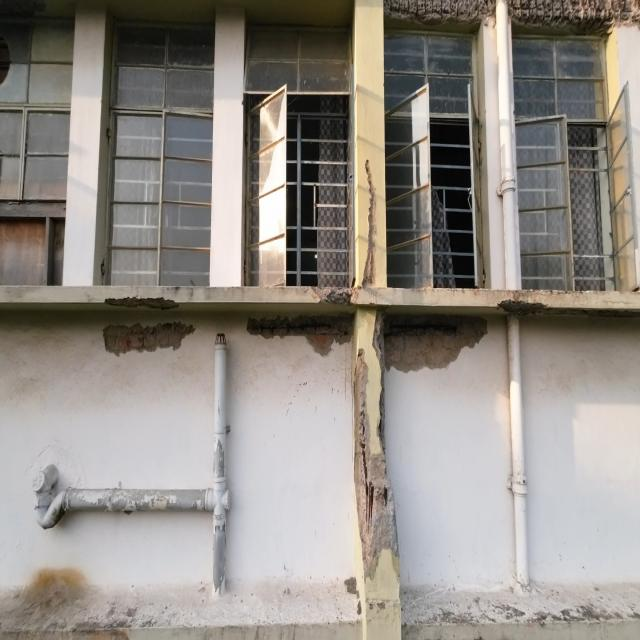spalling: (353, 310, 400, 638), (384, 316, 487, 373), (247, 316, 352, 352), (103, 321, 195, 355), (366, 161, 377, 278)
stain_mould: (25, 568, 86, 606)
